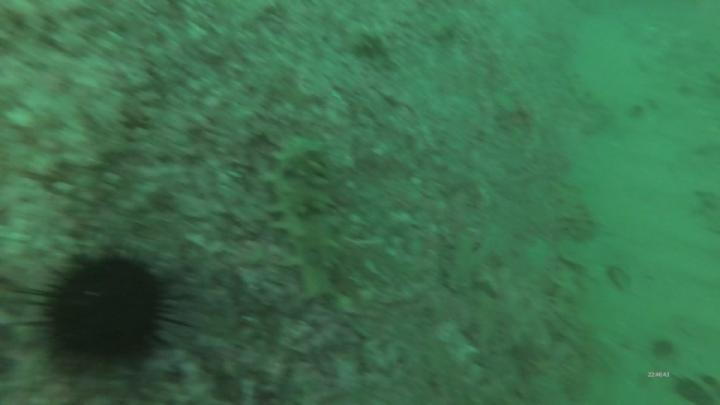echinus: (2, 244, 202, 379)
holothurian: (266, 134, 353, 305), (442, 225, 482, 300), (555, 182, 599, 244), (474, 290, 510, 357)
